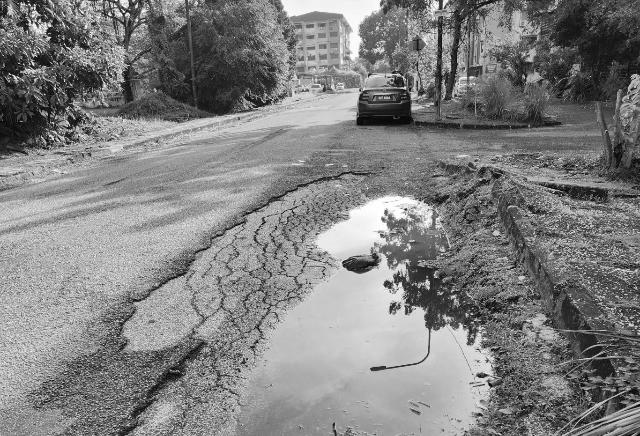Pothole: (231, 193, 505, 436)
